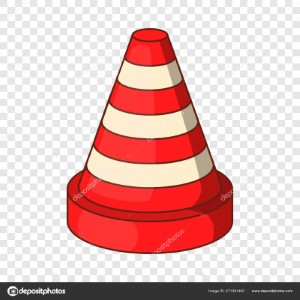traffic cone: (67, 28, 233, 254)
